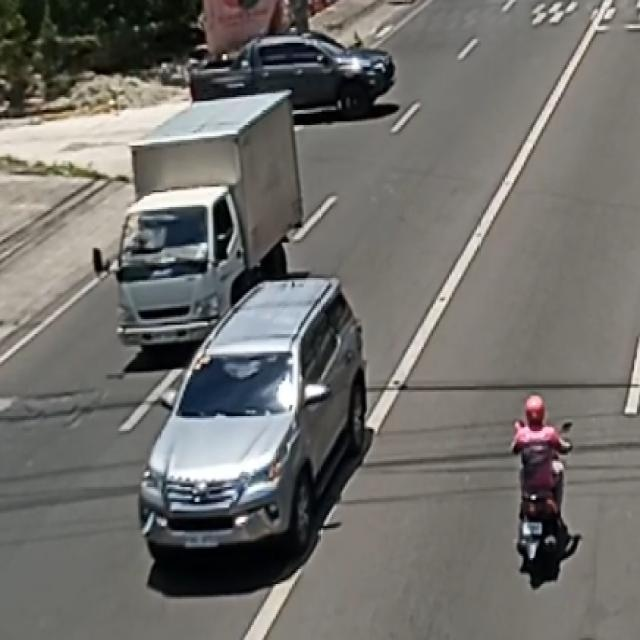Motorcycle: (502, 387, 584, 584)
Truck: (95, 92, 305, 353)
